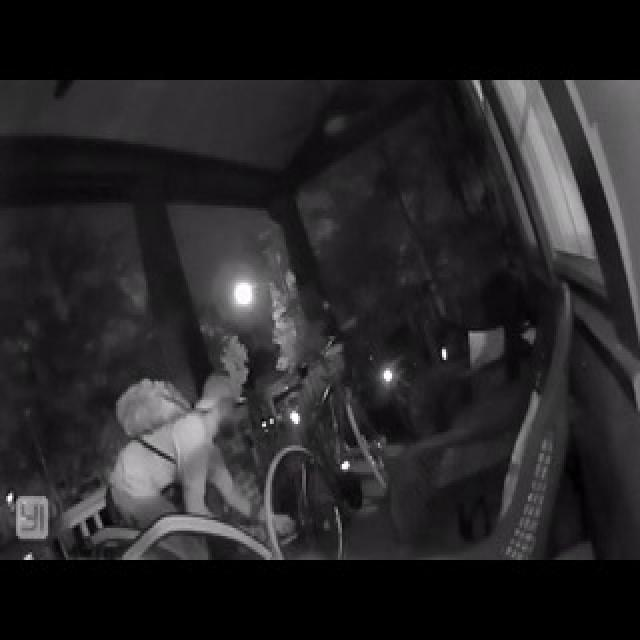thief: (100, 371, 245, 524)
